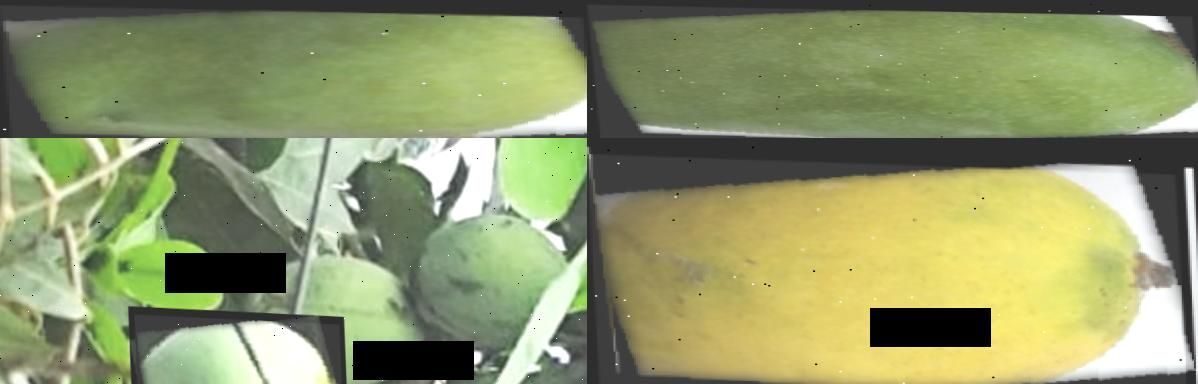Ripe: (588, 145, 1188, 384)
Unripe: (587, 0, 1198, 138), (0, 0, 587, 138), (134, 309, 345, 384)
